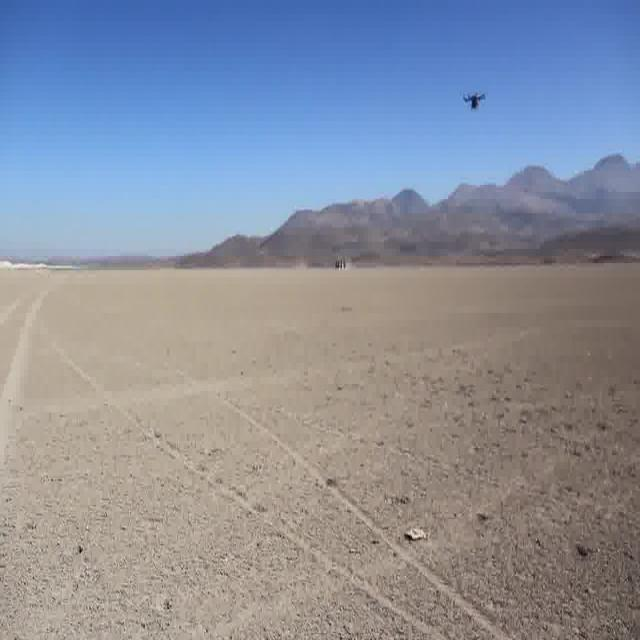drones: (458, 76, 490, 119)
